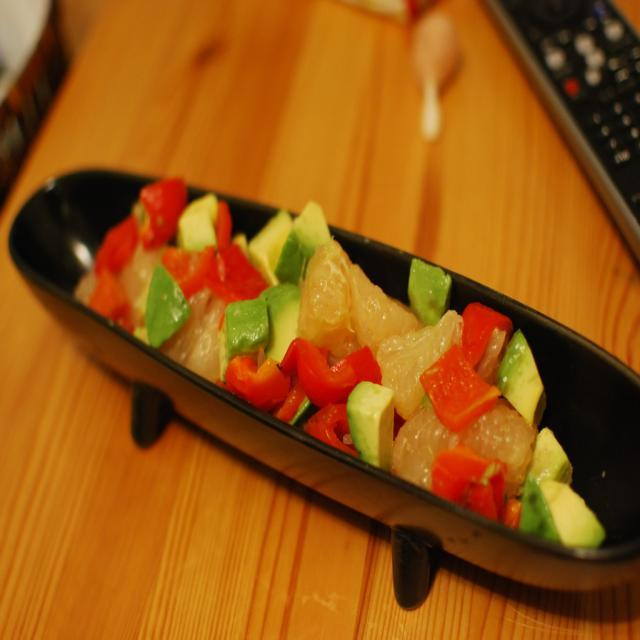Zucchini: (141, 261, 199, 351)
